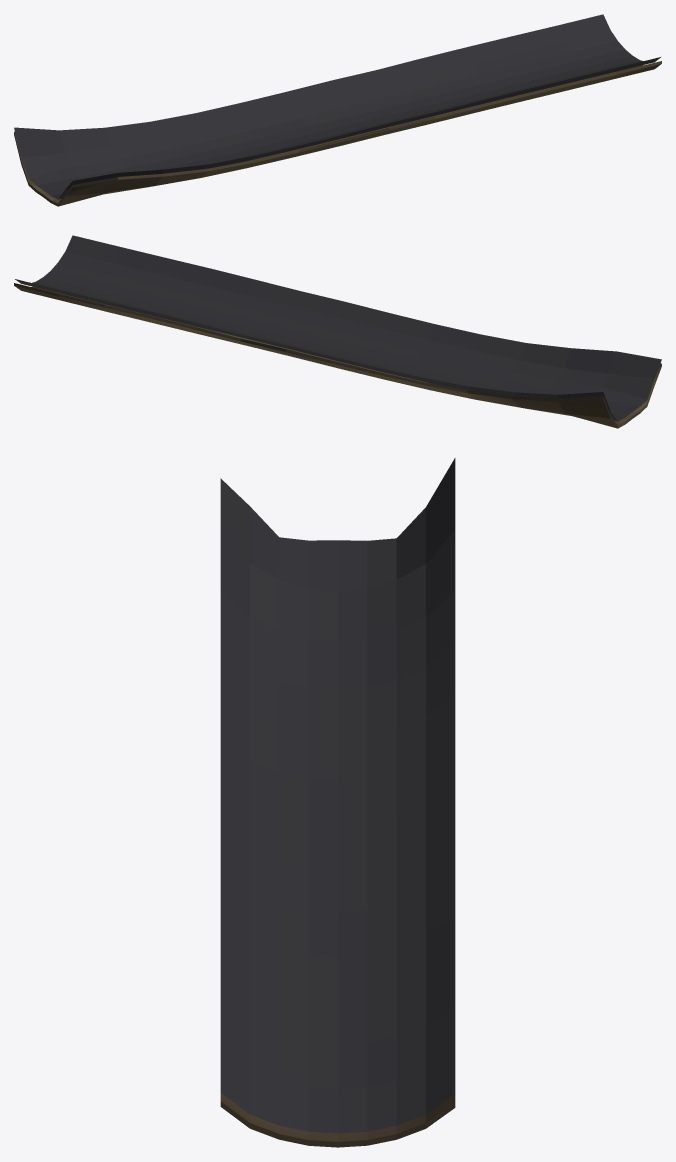
The model's file is fh_bay_bomber_1.glb.
The picture shows the model from 3 angles, top to bottom: view 1: azimuth 30°, elevation 25°; view 2: azimuth 150°, elevation 25°; view 3: azimuth 270°, elevation 25°; orthographic projection. The views are drawn at different scales.
Parts seen in each view (by area): view 1: bay_well_l, bay_well_r, bay_r; view 2: bay_well_r, bay_well_l, bay_l; view 3: bay_well_l, bay_well_r, bay_r, bay_l.
Boxes of the visible parts, x1=… form: bay_well_l: x1=14, y1=14, x2=632, y2=190; bay_well_r: x1=43, y1=55, x2=660, y2=199; bay_r: x1=43, y1=61, x2=661, y2=206; bay_well_r: x1=44, y1=235, x2=661, y2=411; bay_well_l: x1=15, y1=277, x2=631, y2=421; bay_l: x1=14, y1=283, x2=632, y2=428; bay_well_l: x1=338, y1=458, x2=455, y2=1133; bay_well_r: x1=220, y1=478, x2=337, y2=1133; bay_r: x1=220, y1=1093, x2=337, y2=1147; bay_l: x1=338, y1=1094, x2=455, y2=1147.
Bounding box in the file's own units: 0.325 × 0.0304 × 0.056.
